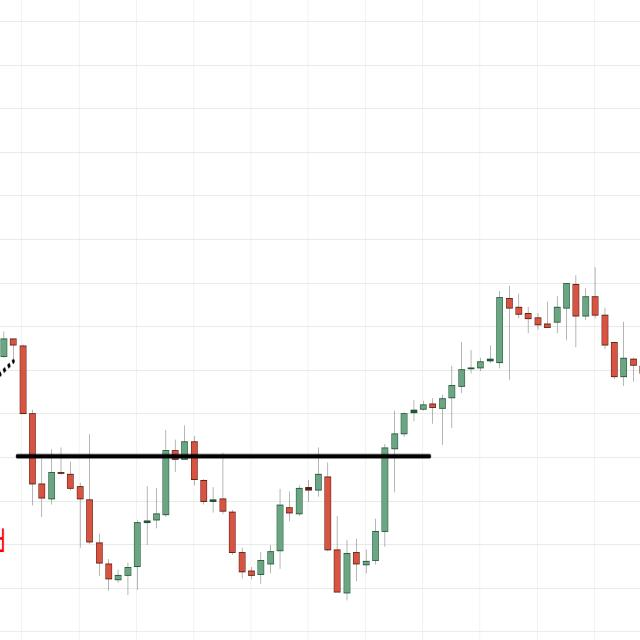Triple-Bottom: (56, 457, 405, 610)
